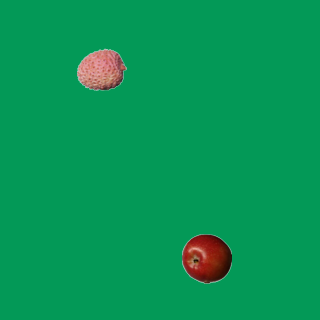Apple Braeburn: (181, 233, 231, 283)
Lychee: (76, 44, 126, 94)
